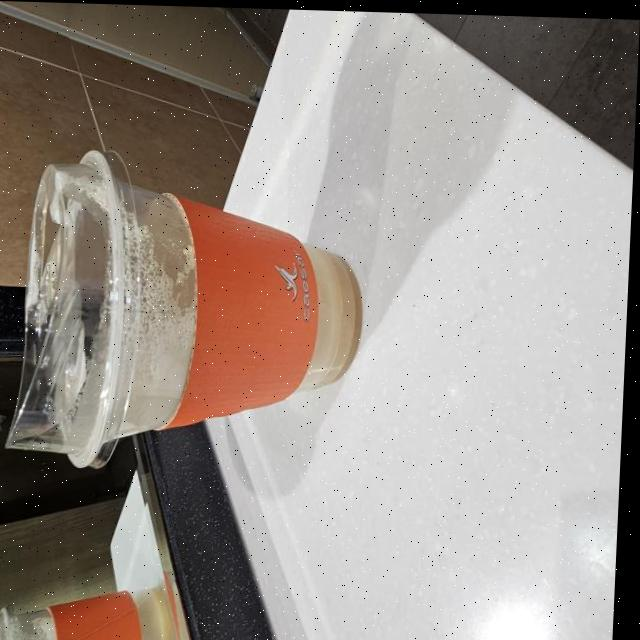cup: (4, 140, 378, 488)
